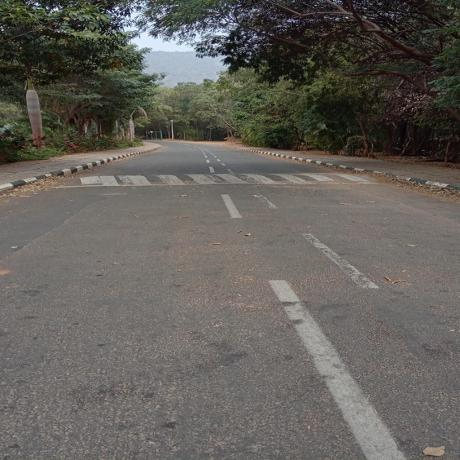Speed Bump: (37, 173, 380, 186)
